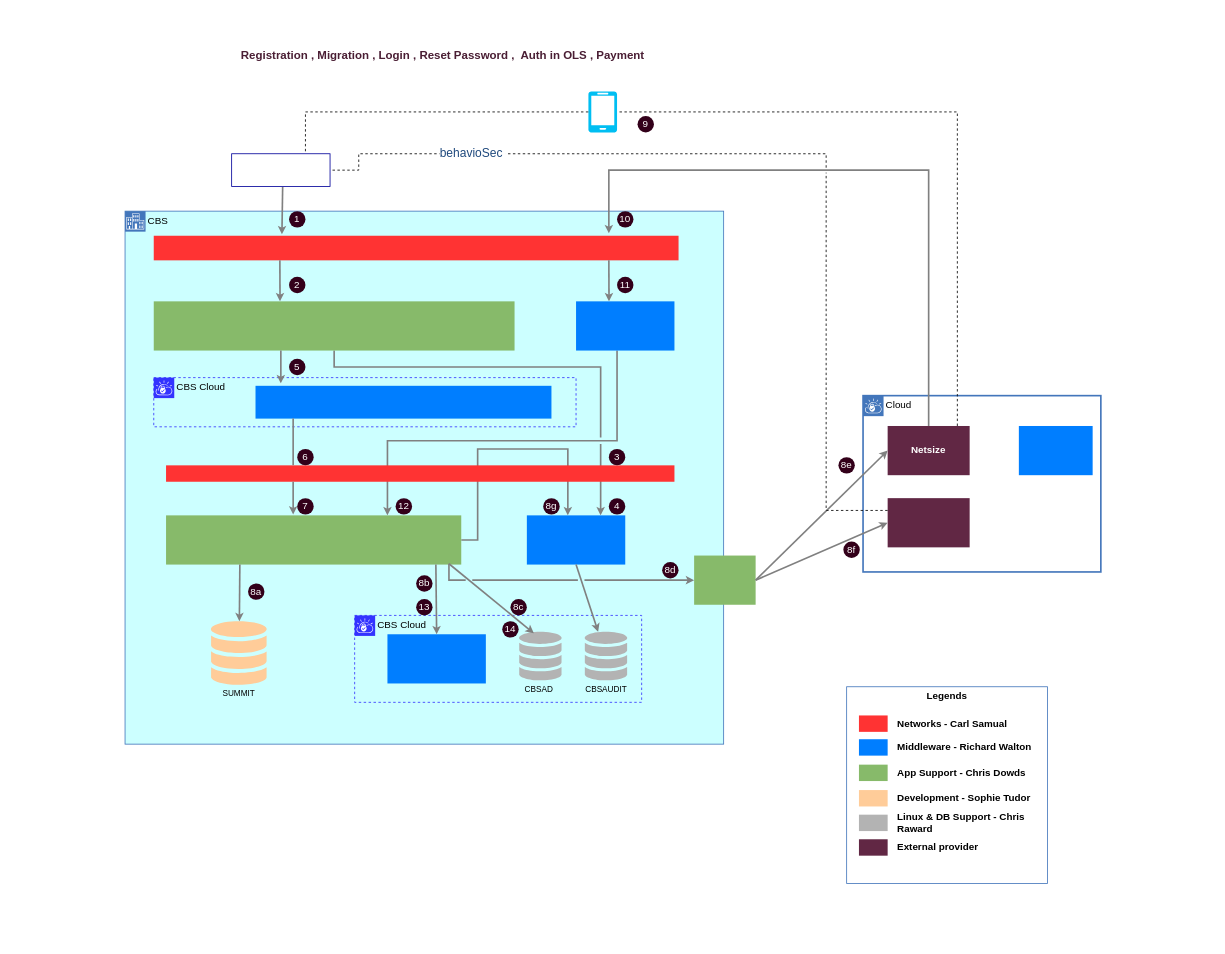
This 1225x954 diagram has some shape labels left out. Each missing label, with the centre of its shape:
Adobe DTM: (x=1055, y=450)
API Gateway - External: (x=625, y=325)
API Gateway - Internal: (x=403, y=401)
Customer: (x=280, y=170)
External F5: (x=415, y=247)
Force Point: (x=724, y=579)
FPP: (x=928, y=522)
Gemalto: (x=436, y=658)
IIB: (x=575, y=539)
Integration Services - .Net: (x=313, y=539)
Internal F5: (x=420, y=473)
Online Services - .Net: (x=333, y=325)
OTP: (x=602, y=111)
